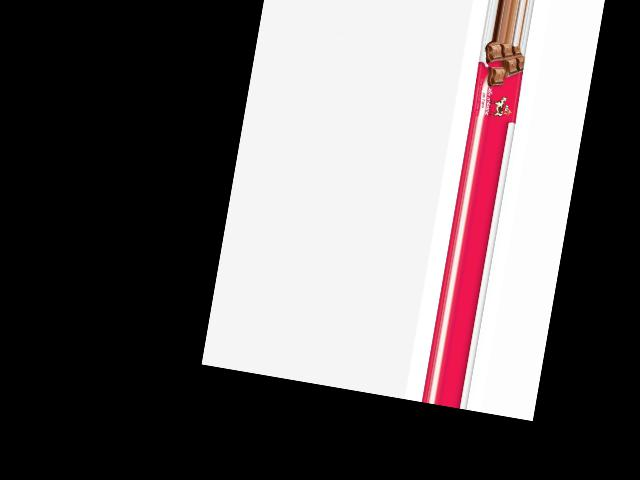chocolate: (469, 40, 527, 124)
